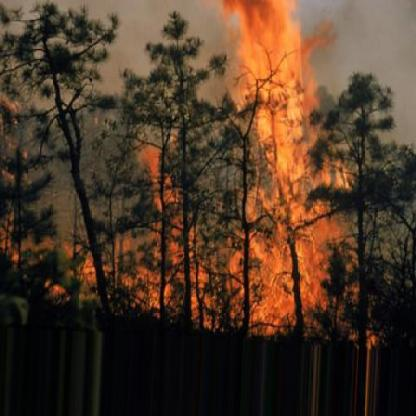fire: (221, 2, 362, 332), (118, 143, 213, 318)
